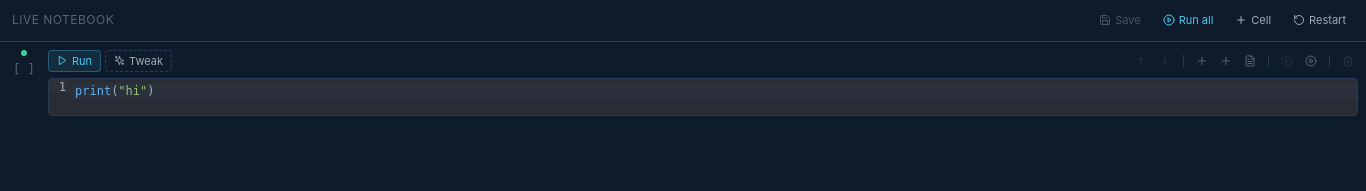
LivePanel › renders streamed stdout output from cell_output events
This screenshot has width=1366, height=191.
Step 1. Click the button with aria-label "Run cell" → {"x": 75, "y": 61}, box x1=48 y1=50 x2=101 y2=72
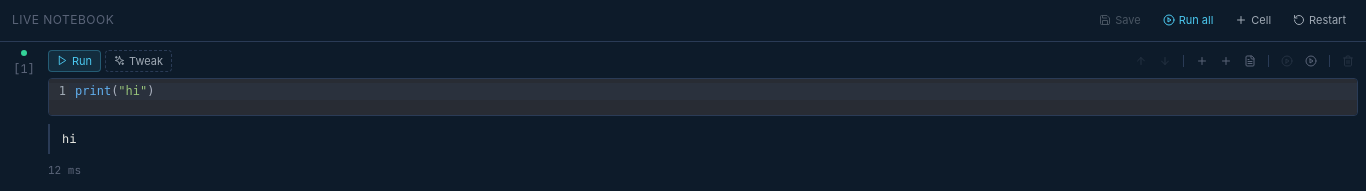
Expected: the text "hi" is shown, x1=62 y1=131 x2=76 y2=147
Expected: the text "[1]" is shown, x1=13 y1=60 x2=35 y2=78
